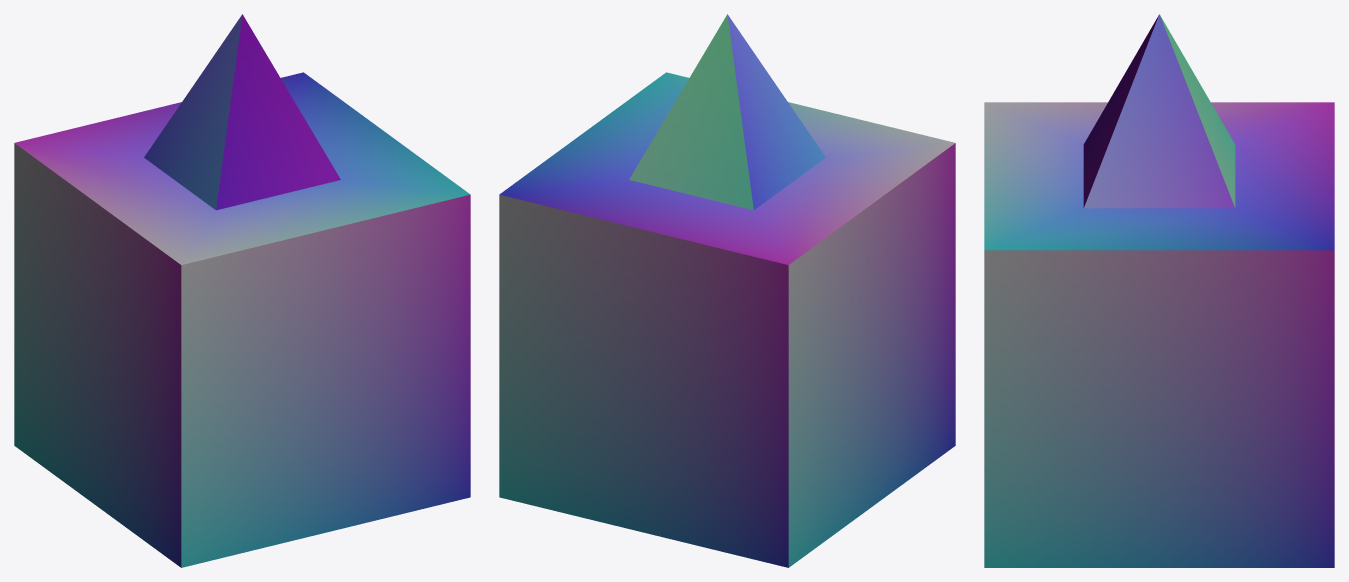
Rendered from box_outSmooth.fbx.
3 renders of one model, left to right at view 1: azimuth 30°, elevation 25°; view 2: azimuth 150°, elevation 25°; view 3: azimuth 270°, elevation 25°, orthographic. The views are drawn at different scales.
Parts seen in each view (by area): view 1: Cube; view 2: Cube; view 3: Cube.
Part boxes in pixels (x1,y1,x2,y2): Cube: (14,14,470,567); Cube: (499,14,955,567); Cube: (984,14,1334,567).
Size of the model in its own units: 200 by 302 by 200.
